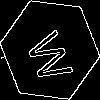W: (25, 25, 81, 87)
